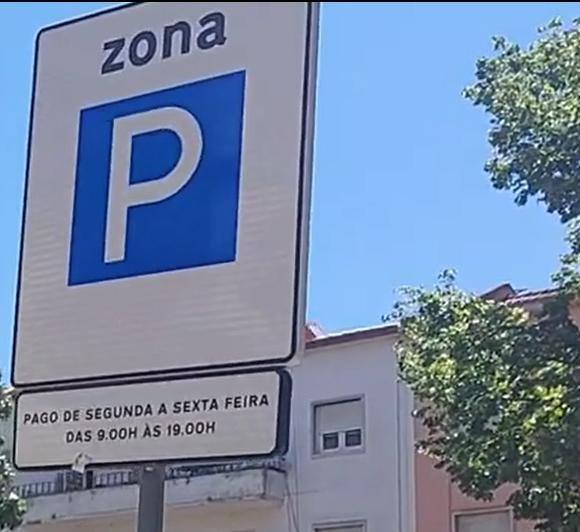zona de estacionamento autorizado: (15, 0, 309, 365)
